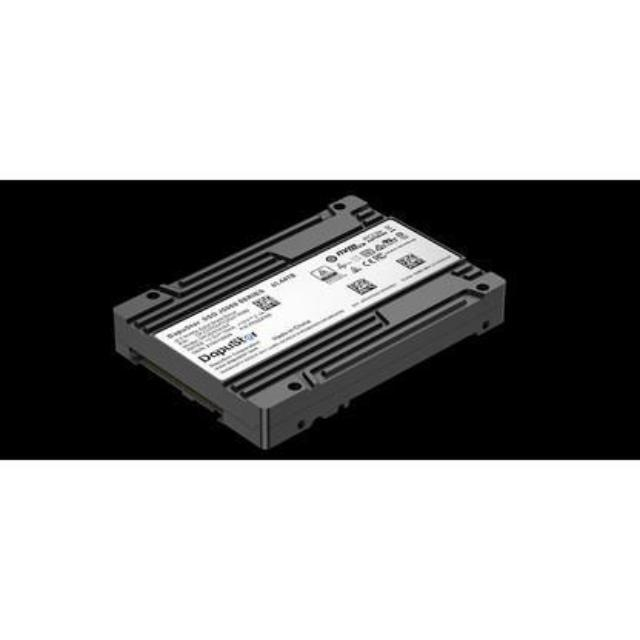DISK: (96, 194, 513, 448)
